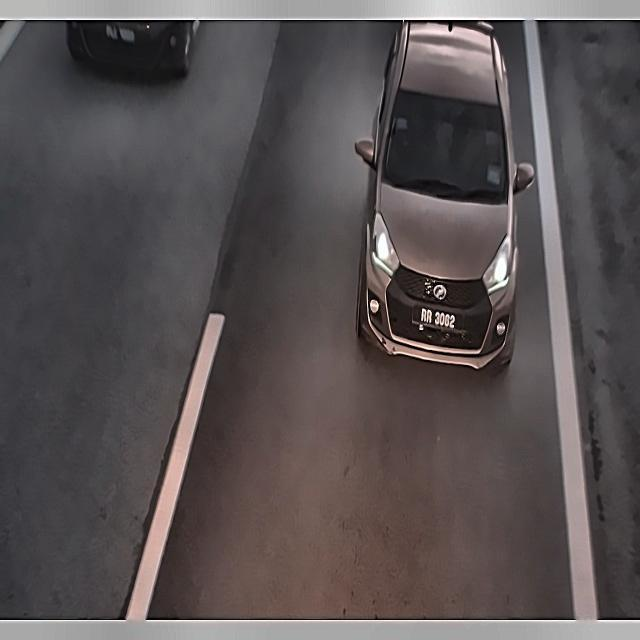car: (414, 299, 462, 340), (100, 22, 141, 48)
